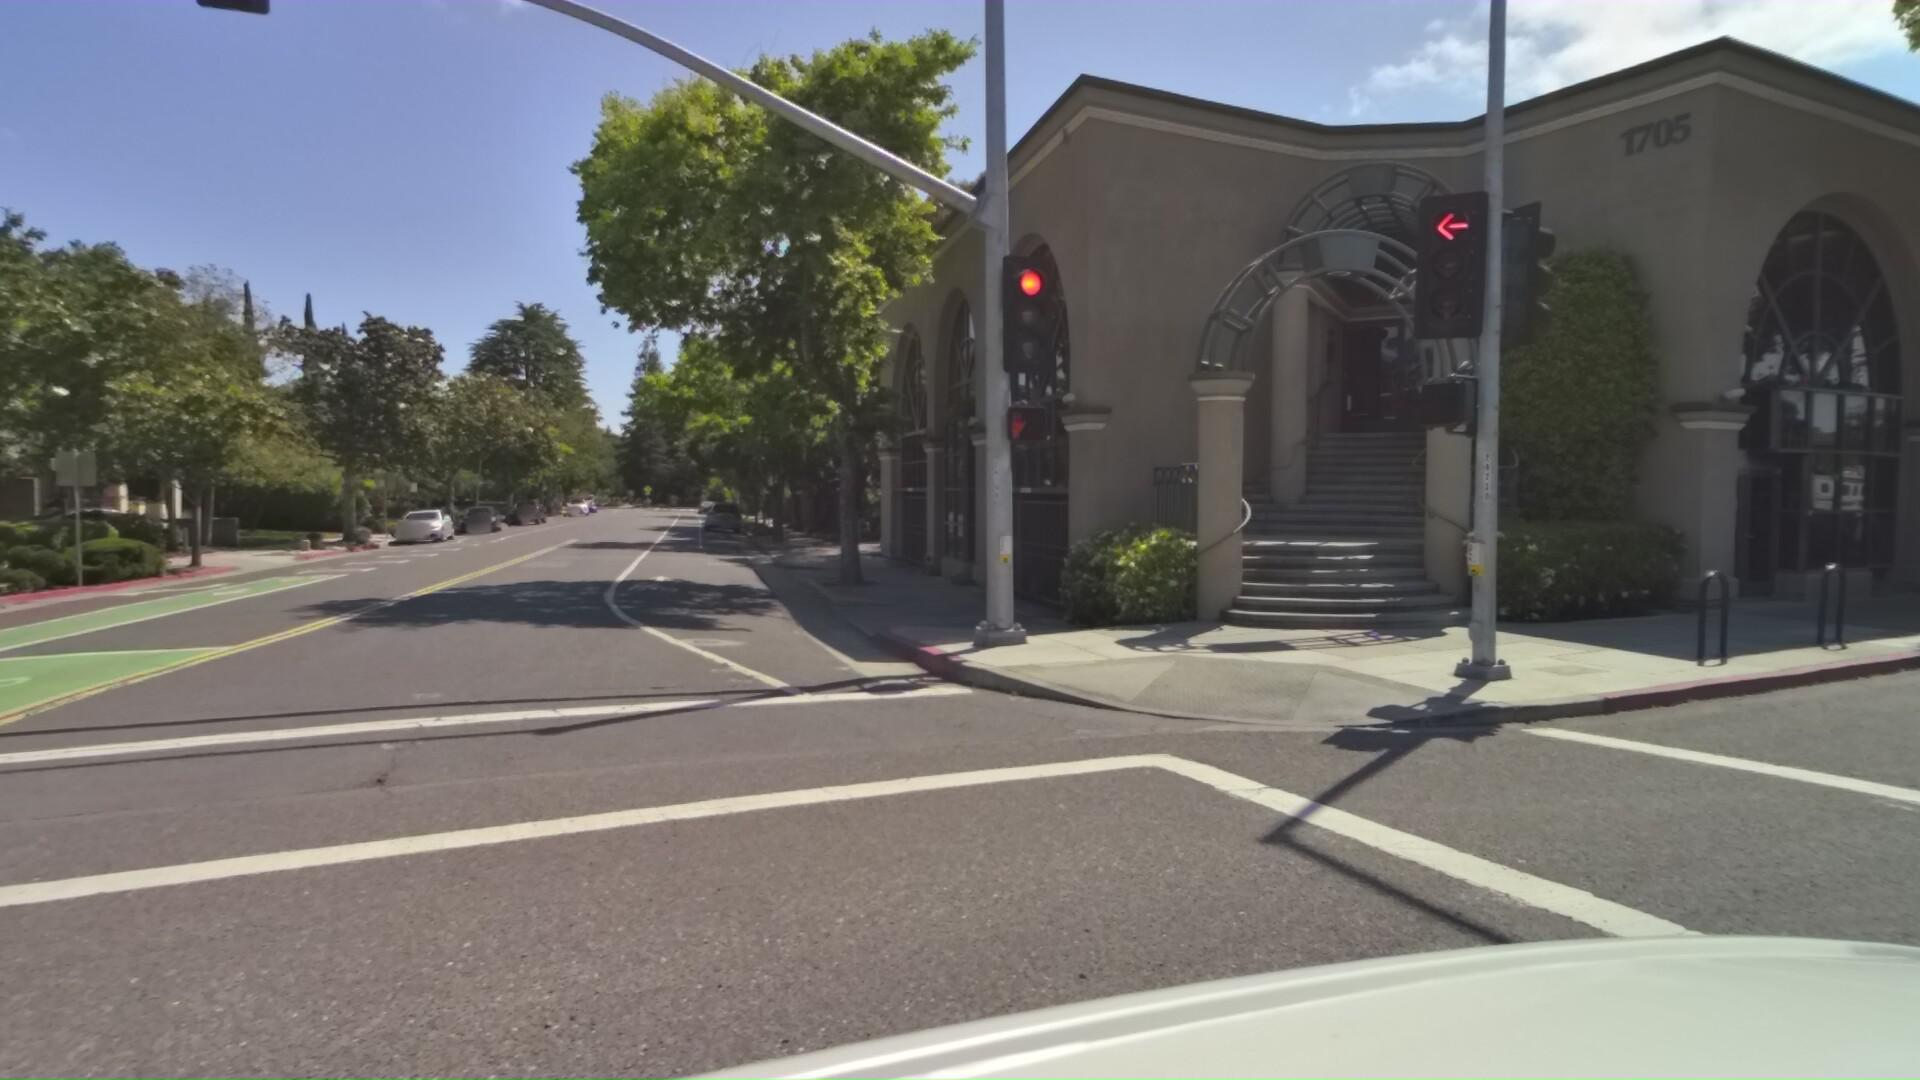car: (15, 501, 206, 553), (398, 502, 465, 542), (0, 502, 51, 554), (463, 502, 512, 535), (705, 497, 746, 533), (512, 498, 546, 524)
